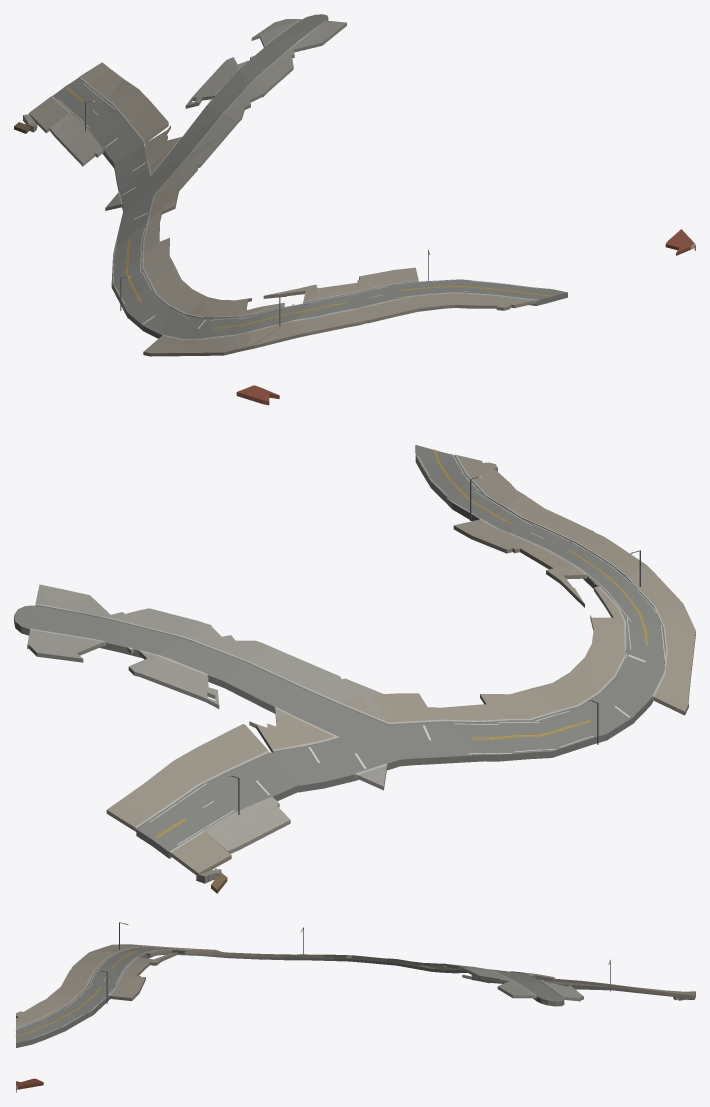
3 renders of one model, top to bottom at view 1: azimuth 30°, elevation 25°; view 2: azimuth 150°, elevation 25°; view 3: azimuth 270°, elevation 25°, orthographic. The views are drawn at different scales.
Size of the model in its own units: 106 by 29.56 by 146.
